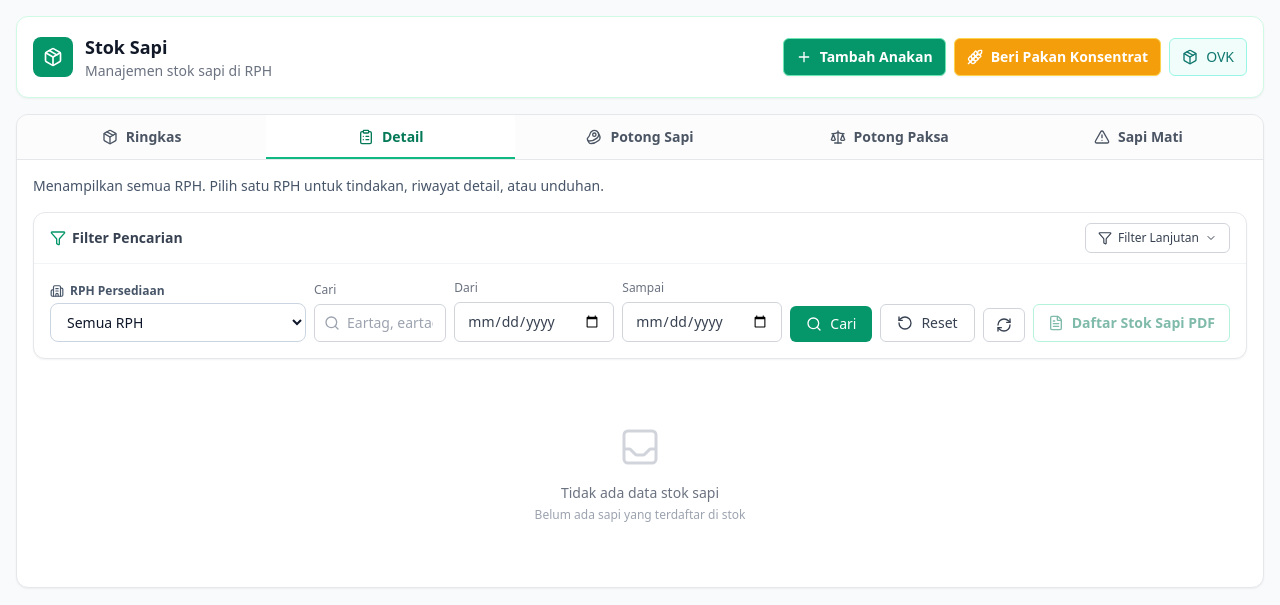
Scenario: stock office switch preserves tab and isolates late responses; ALL blocks row actions
Step 1. Select "RPH A" in the dropdown labelled "RPH Persediaan" → (178, 322), box top-left (50, 303), bottom-right (306, 342)
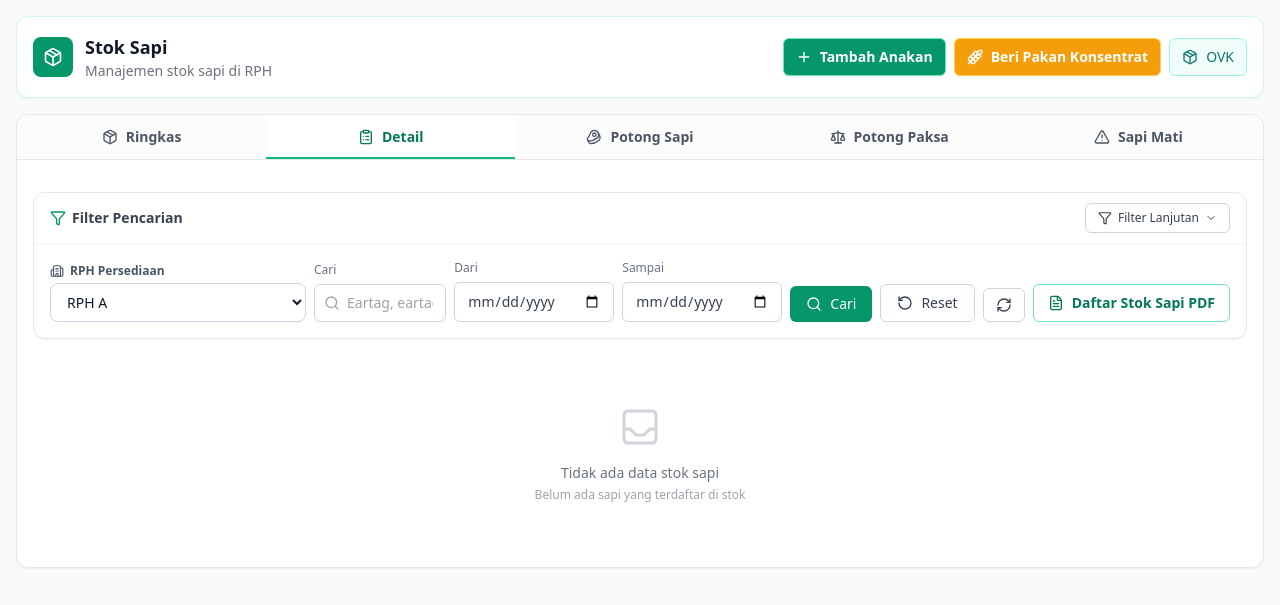
Expected: the button "Cari" is enabled, top-left (790, 286), bottom-right (872, 322)
Step 2. Click the button "Potong Paksa" → (889, 137), box top-left (765, 115), bottom-right (1014, 159)
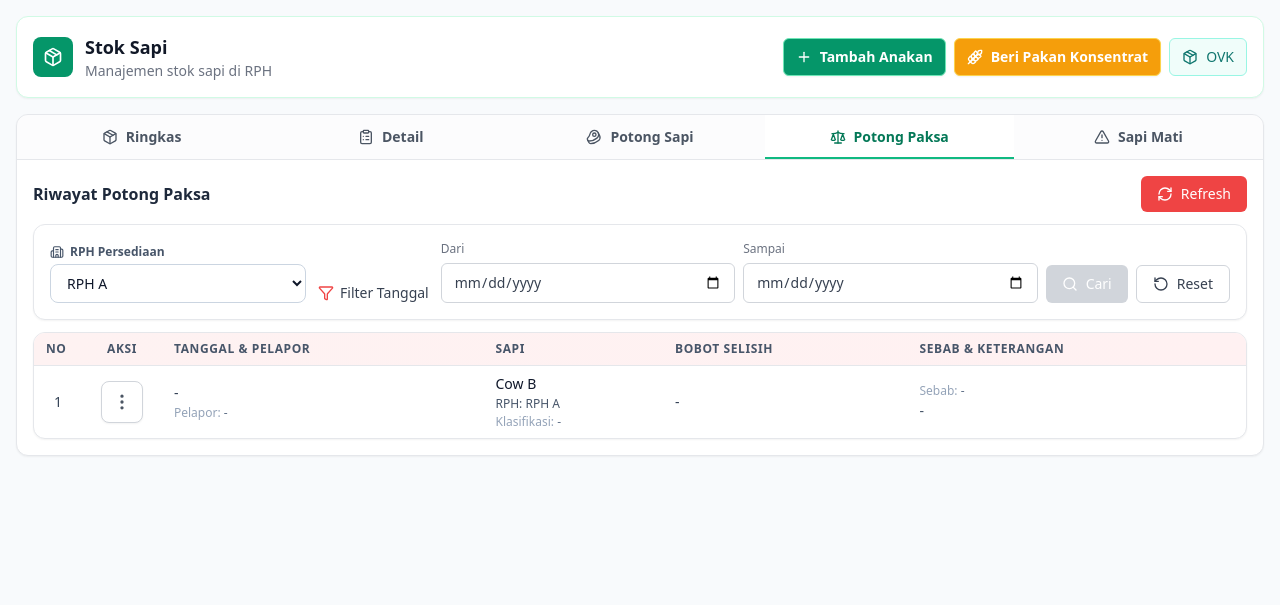
Expected: the text "Cow B" is shown, top-left (496, 374), bottom-right (536, 393)
Expected: the button named "Menu Aksi" is enabled, top-left (101, 381), bottom-right (143, 423)
Step 3. Select "Semua RPH" in the dropdown labelled "RPH Persediaan" → (178, 284), box top-left (50, 264), bottom-right (306, 303)
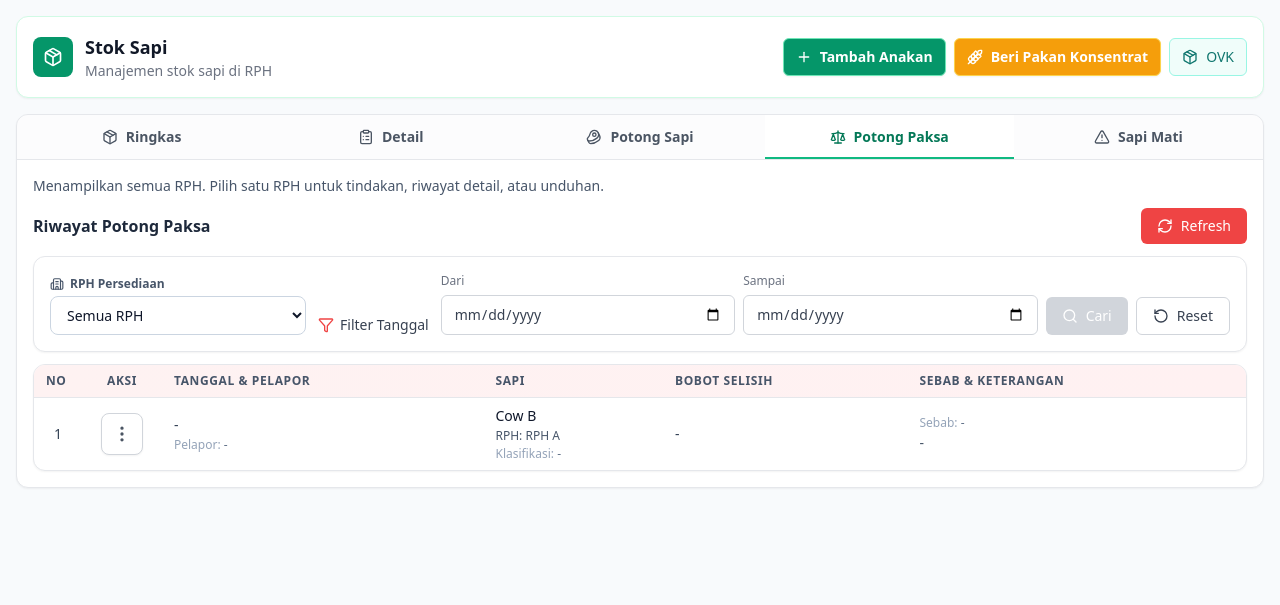
Expected: the text "Cow B" is shown, top-left (496, 406), bottom-right (536, 425)
Expected: the heading "Riwayat Potong Paksa" is shown, top-left (33, 214), bottom-right (210, 238)
Expected: the button named "Menu Aksi" is disabled, top-left (101, 413), bottom-right (143, 455)
